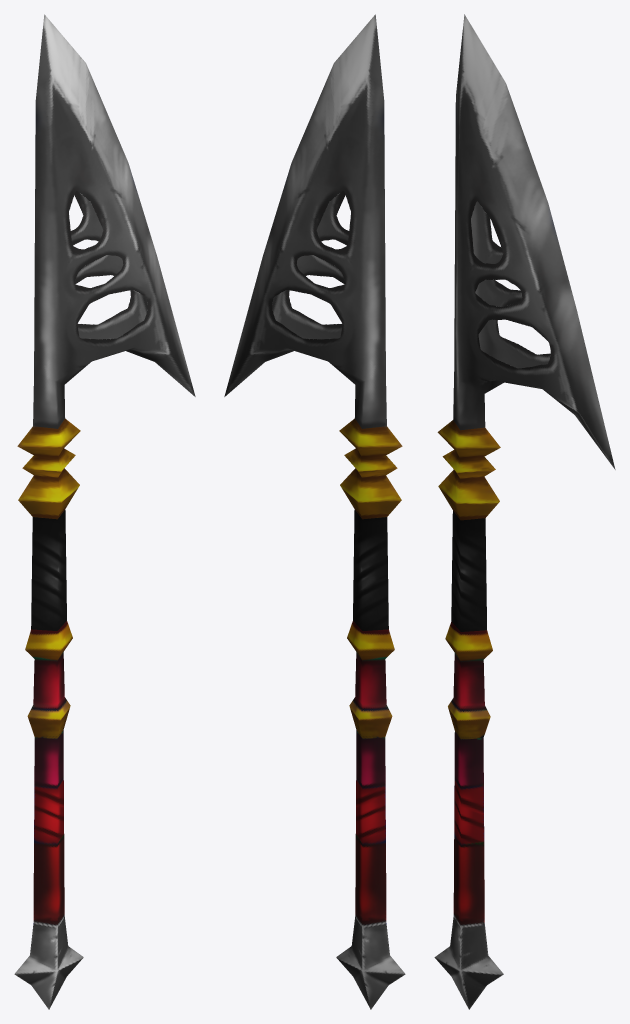
File: hefu_Spear.FBX
3 renders of one model, left to right at view 1: azimuth 30°, elevation 25°; view 2: azimuth 150°, elevation 25°; view 3: azimuth 330°, elevation 25°, orthographic.
Visible parts, largest first — view 1: hefu_Spear; view 2: hefu_Spear; view 3: hefu_Spear.
Boxes of the visible parts, x1,y1,x2,y2 form: hefu_Spear: [14, 14, 195, 1009]; hefu_Spear: [224, 14, 405, 1009]; hefu_Spear: [434, 14, 615, 1009].
Bounding box in the file's own units: 17.02 × 89.35 × 4.16.
